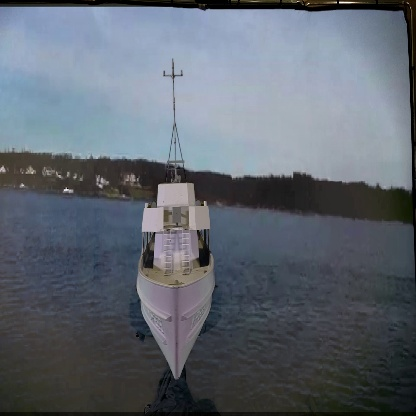YP689: (137, 61, 217, 380)
